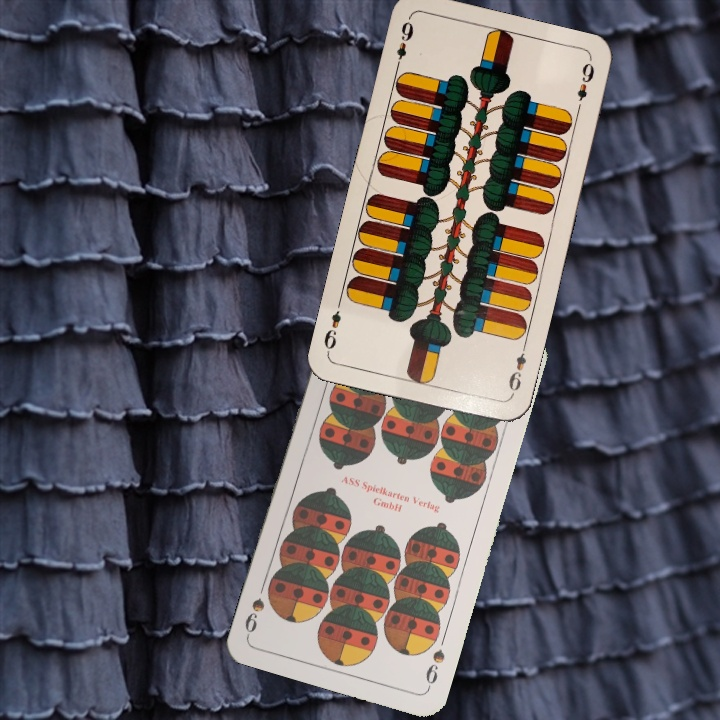E9: (504, 341, 529, 399), (391, 17, 416, 73)
S9: (421, 645, 448, 693)
